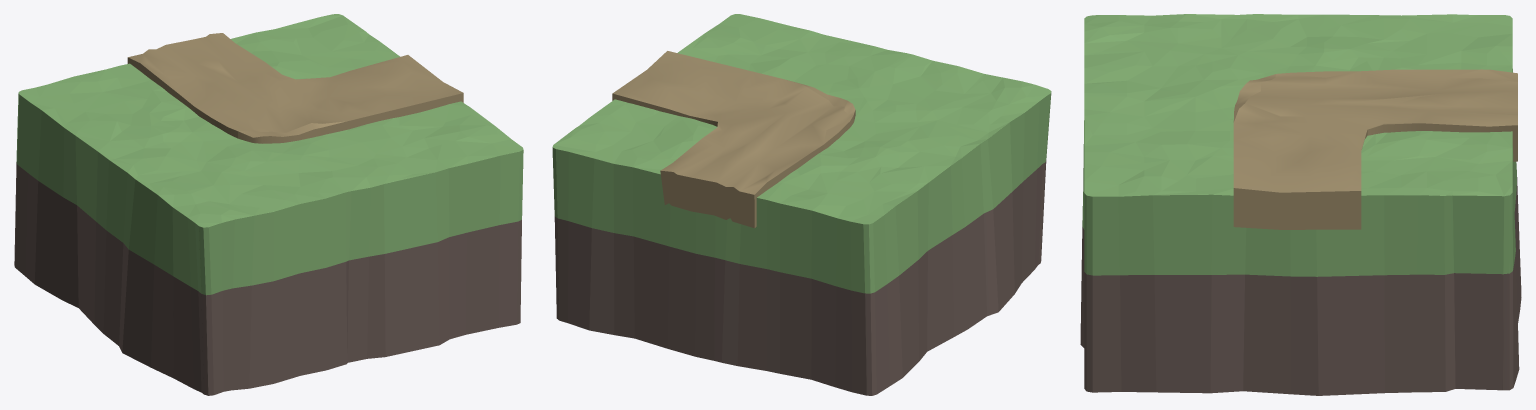
The model's file is road_3.fbx.
The picture shows the model from 3 angles, left to right: view 1: azimuth 30°, elevation 25°; view 2: azimuth 150°, elevation 25°; view 3: azimuth 270°, elevation 25°; orthographic projection. The views are drawn at different scales.
Parts seen in each view (by area): view 1: island:ground3, island5:street3; view 2: island:ground3, island5:street3; view 3: island:ground3, island5:street3.
Part boxes in pixels (left/top/right/bottom): island:ground3: left=14, top=14, right=523, bottom=395; island5:street3: left=127, top=33, right=463, bottom=143; island:ground3: left=552, top=14, right=1051, bottom=395; island5:street3: left=612, top=51, right=855, bottom=228; island:ground3: left=1080, top=14, right=1521, bottom=395; island5:street3: left=1233, top=69, right=1517, bottom=229.
Bounding box in the file's own units: 20.78 × 10.71 × 20.34.
